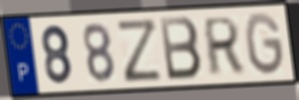8: (40, 23, 75, 87), (82, 21, 117, 84)
B: (157, 15, 205, 83)
G: (243, 10, 287, 78)
R: (203, 14, 245, 78)
Z: (115, 17, 164, 85)
